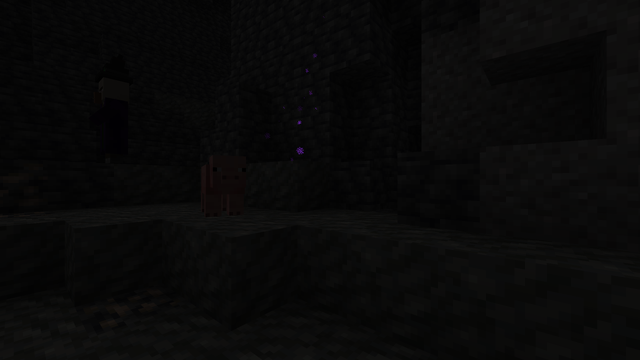cochons: (186, 162, 256, 217)
sorcieres: (94, 72, 132, 164)
